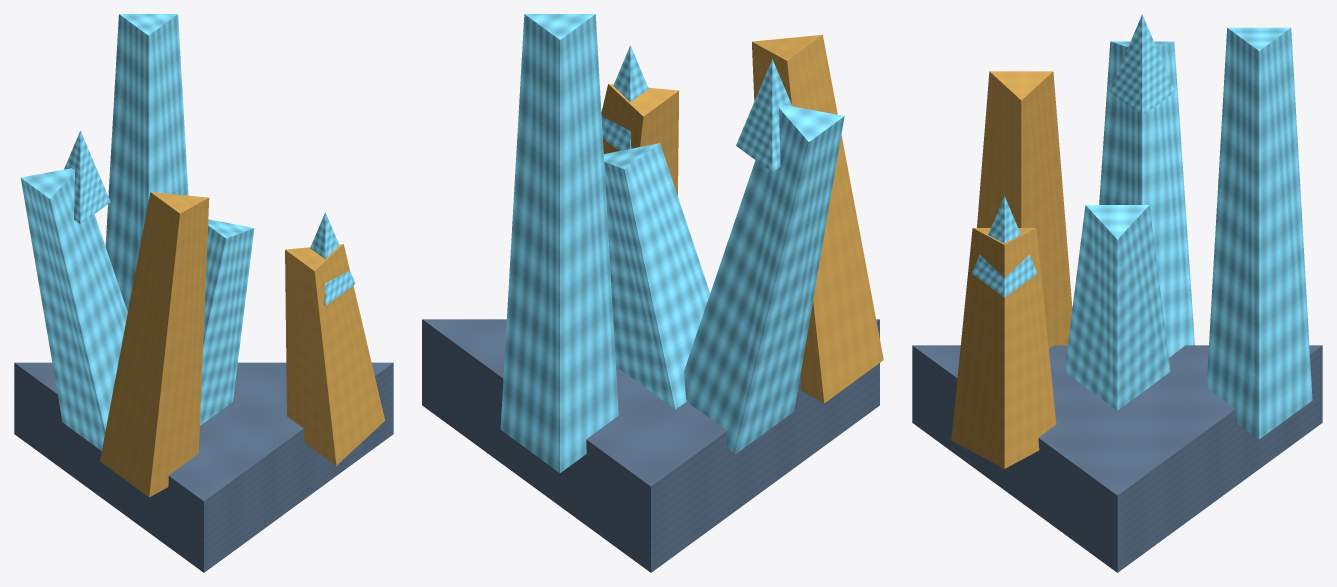
Rendered from atlas100-s051-a04.lod2.glb.
3 views of the same model, side by side, from view 1: azimuth 30°, elevation 25°; view 2: azimuth 150°, elevation 25°; view 3: azimuth 270°, elevation 25° (orthographic). The views are drawn at different scales.
Visible parts, largest first — view 1: atlas100-s051-a04:part-000, atlas100-s051-a04:part-003, atlas100-s051-a04:part-009, atlas100-s051-a04:part-005, atlas100-s051-a04:part-007, atlas100-s051-a04:part-001, atlas100-s051-a04:part-010, atlas100-s051-a04:part-008; view 2: atlas100-s051-a04:part-005, atlas100-s051-a04:part-000, atlas100-s051-a04:part-009, atlas100-s051-a04:part-001, atlas100-s051-a04:part-003, atlas100-s051-a04:part-007, atlas100-s051-a04:part-010, atlas100-s051-a04:part-008; view 3: atlas100-s051-a04:part-000, atlas100-s051-a04:part-005, atlas100-s051-a04:part-007, atlas100-s051-a04:part-001, atlas100-s051-a04:part-003, atlas100-s051-a04:part-009, atlas100-s051-a04:part-010, atlas100-s051-a04:part-008.
Part boxes in pixels (x1,y1,x2,y2): atlas100-s051-a04:part-000: [14, 362, 393, 572]; atlas100-s051-a04:part-003: [100, 192, 209, 497]; atlas100-s051-a04:part-009: [20, 168, 127, 450]; atlas100-s051-a04:part-005: [105, 14, 188, 311]; atlas100-s051-a04:part-007: [285, 244, 384, 465]; atlas100-s051-a04:part-001: [200, 219, 254, 425]; atlas100-s051-a04:part-010: [64, 130, 110, 224]; atlas100-s051-a04:part-008: [310, 212, 355, 305]; atlas100-s051-a04:part-005: [500, 14, 618, 472]; atlas100-s051-a04:part-000: [422, 319, 879, 572]; atlas100-s051-a04:part-009: [684, 104, 844, 454]; atlas100-s051-a04:part-001: [603, 143, 710, 409]; atlas100-s051-a04:part-003: [752, 34, 883, 403]; atlas100-s051-a04:part-007: [601, 84, 679, 195]; atlas100-s051-a04:part-010: [736, 59, 791, 172]; atlas100-s051-a04:part-008: [601, 45, 648, 150]; atlas100-s051-a04:part-000: [912, 345, 1322, 572]; atlas100-s051-a04:part-005: [1206, 27, 1312, 439]; atlas100-s051-a04:part-007: [951, 228, 1056, 468]; atlas100-s051-a04:part-001: [1064, 205, 1170, 410]; atlas100-s051-a04:part-003: [977, 71, 1072, 348]; atlas100-s051-a04:part-009: [1099, 41, 1194, 357]; atlas100-s051-a04:part-010: [1109, 14, 1174, 115]; atlas100-s051-a04:part-008: [972, 196, 1037, 297].
Size of the model in its own units: 0.9772 by 1.1 by 0.9258.
3 materials, 3 textured.
